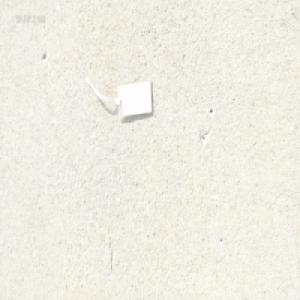LuggageTag: (82, 71, 153, 123)
